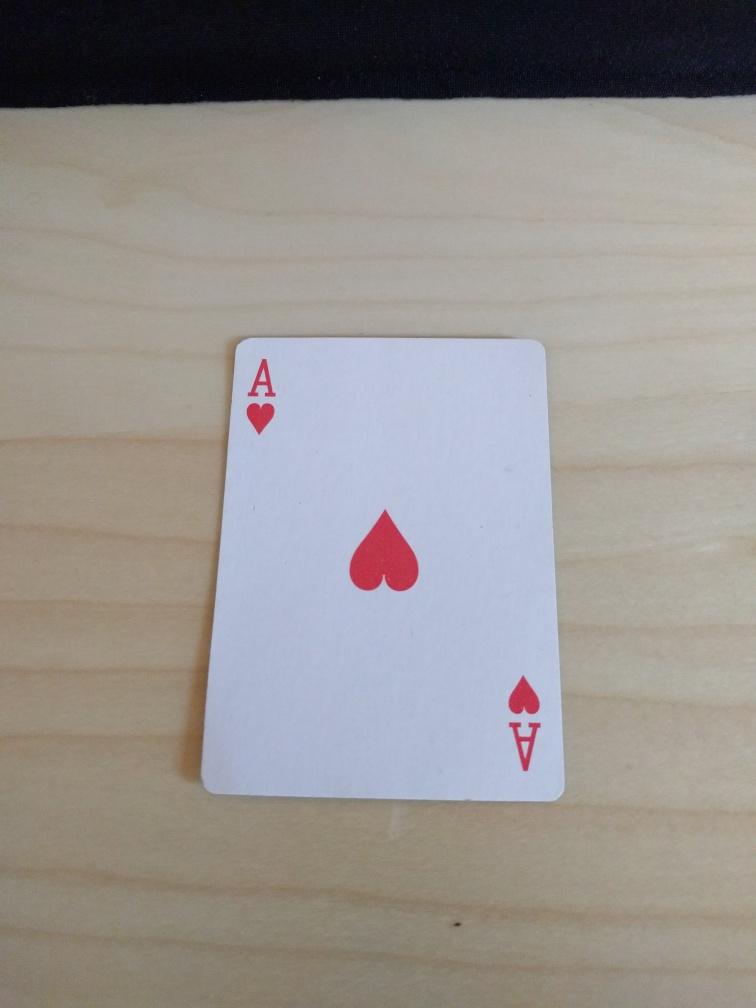ace: (198, 335, 567, 805)
